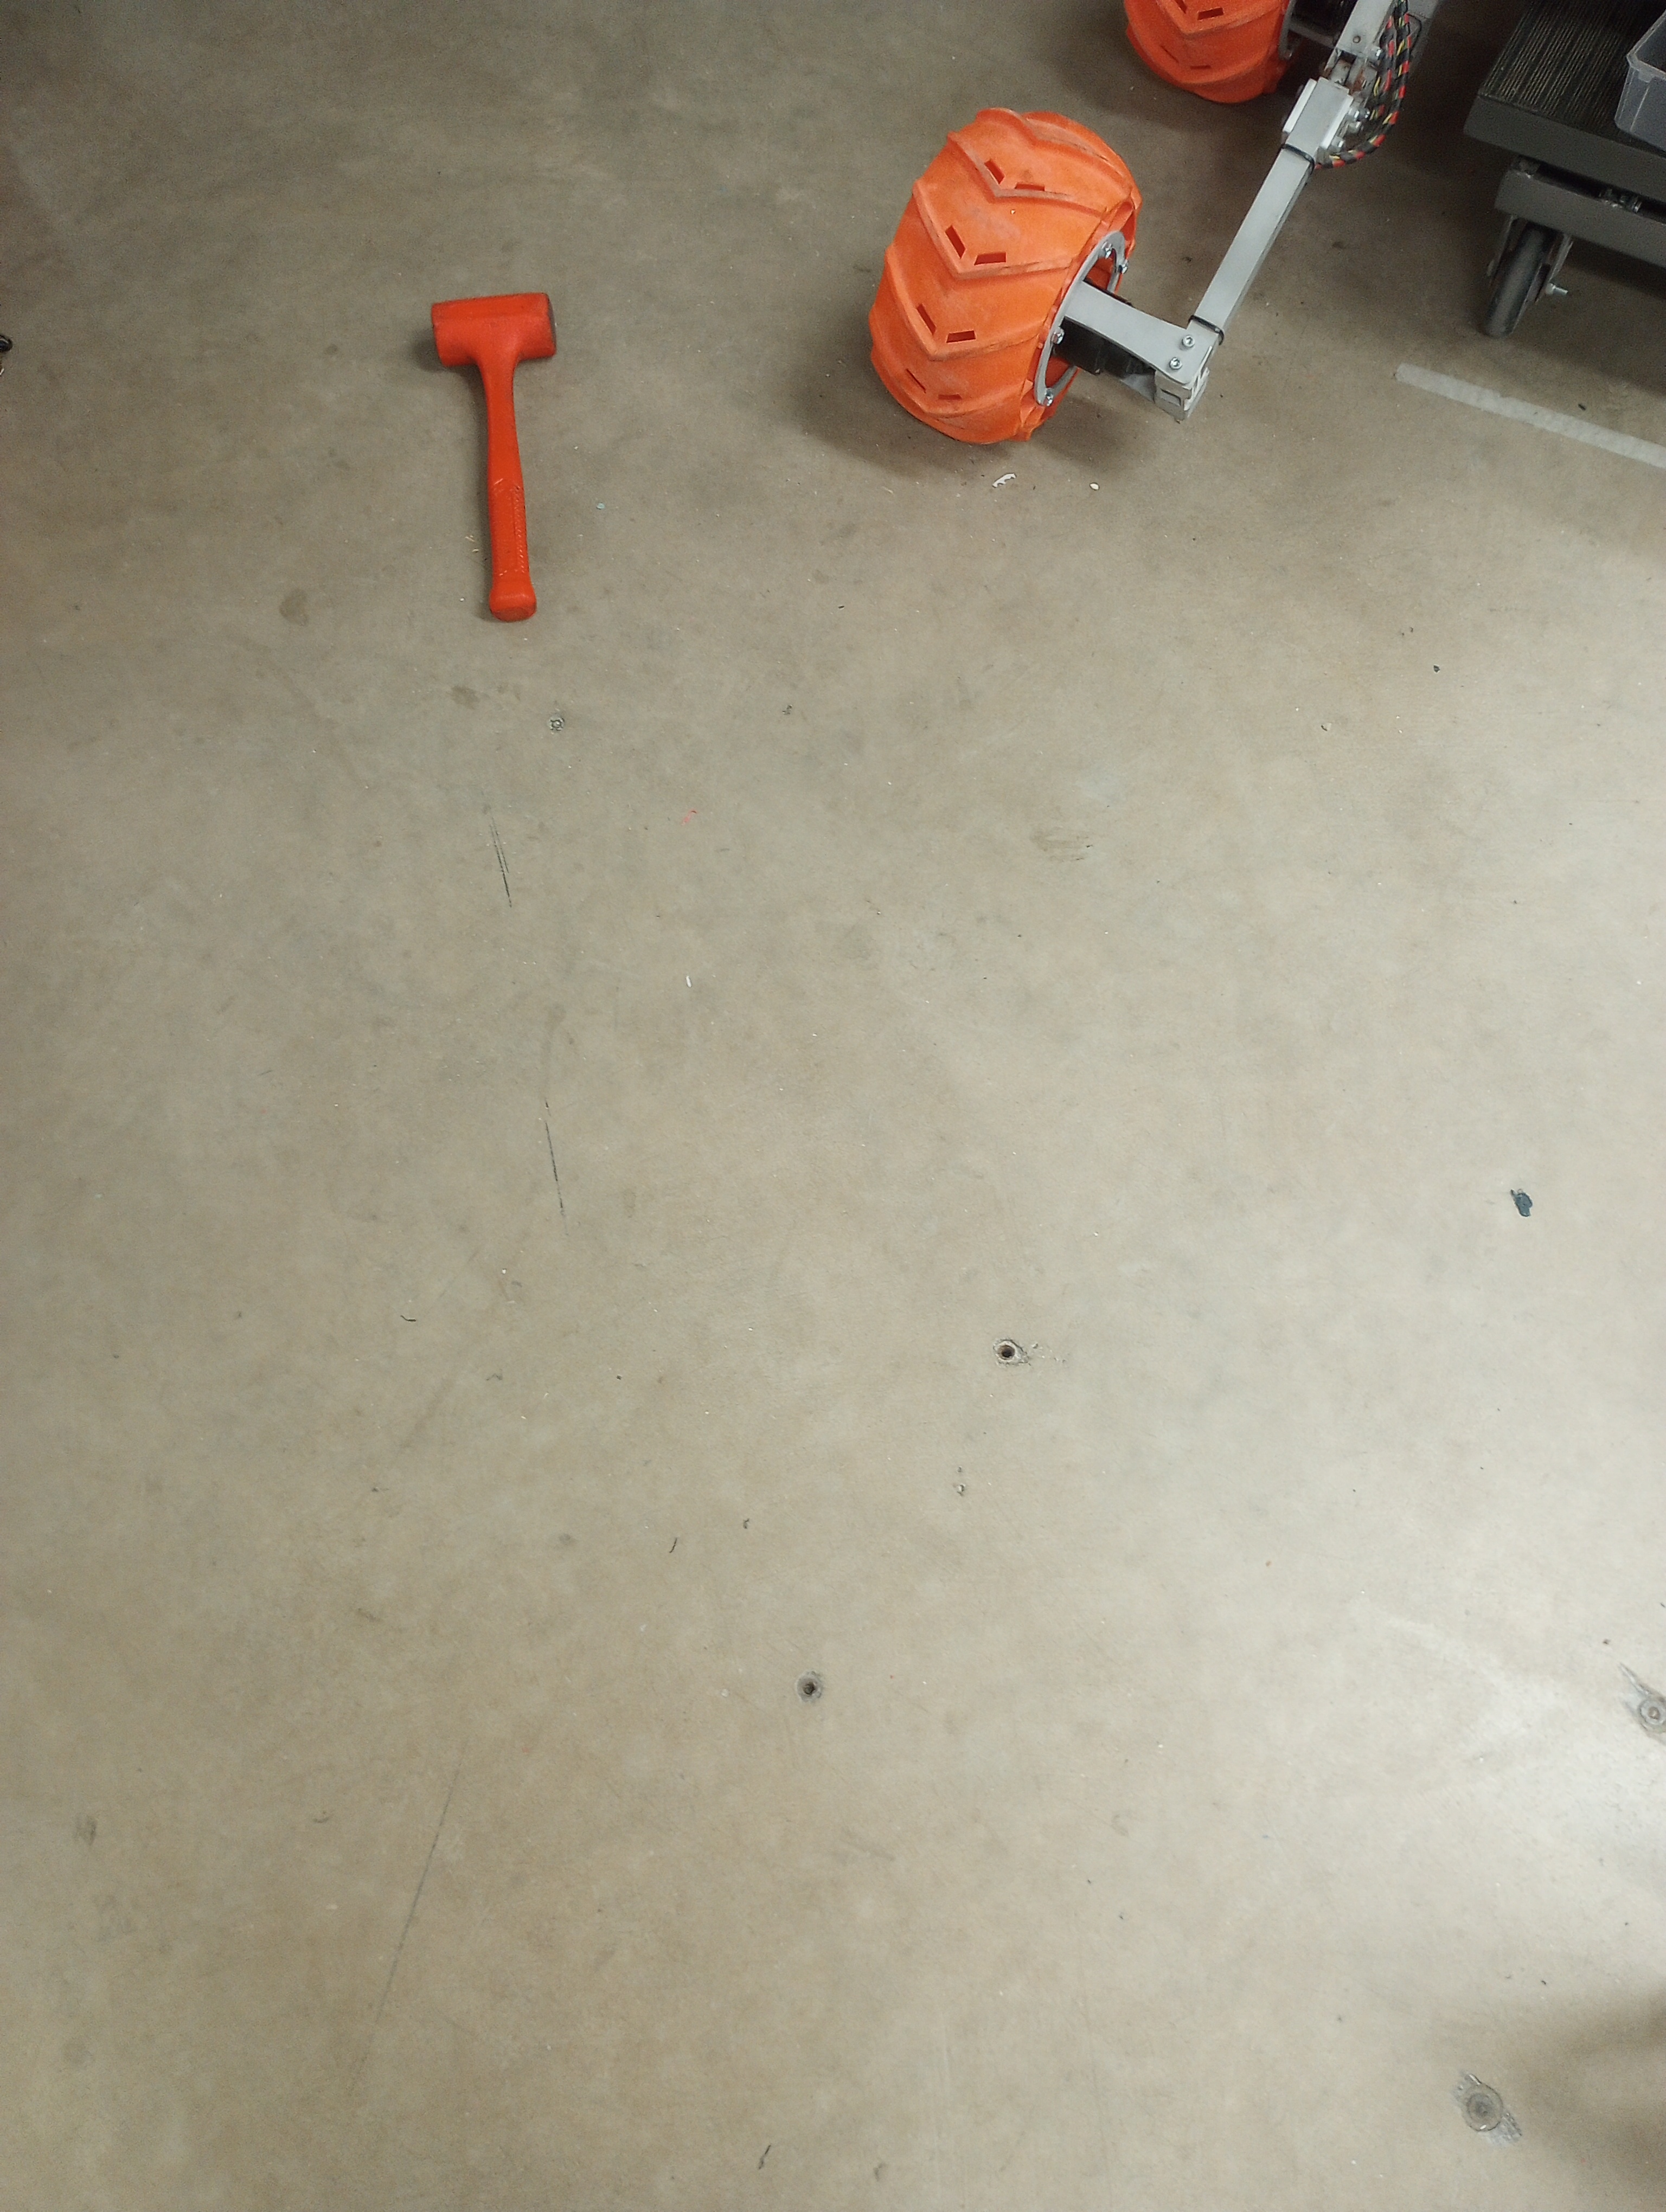bottle: (425, 276, 563, 631)
